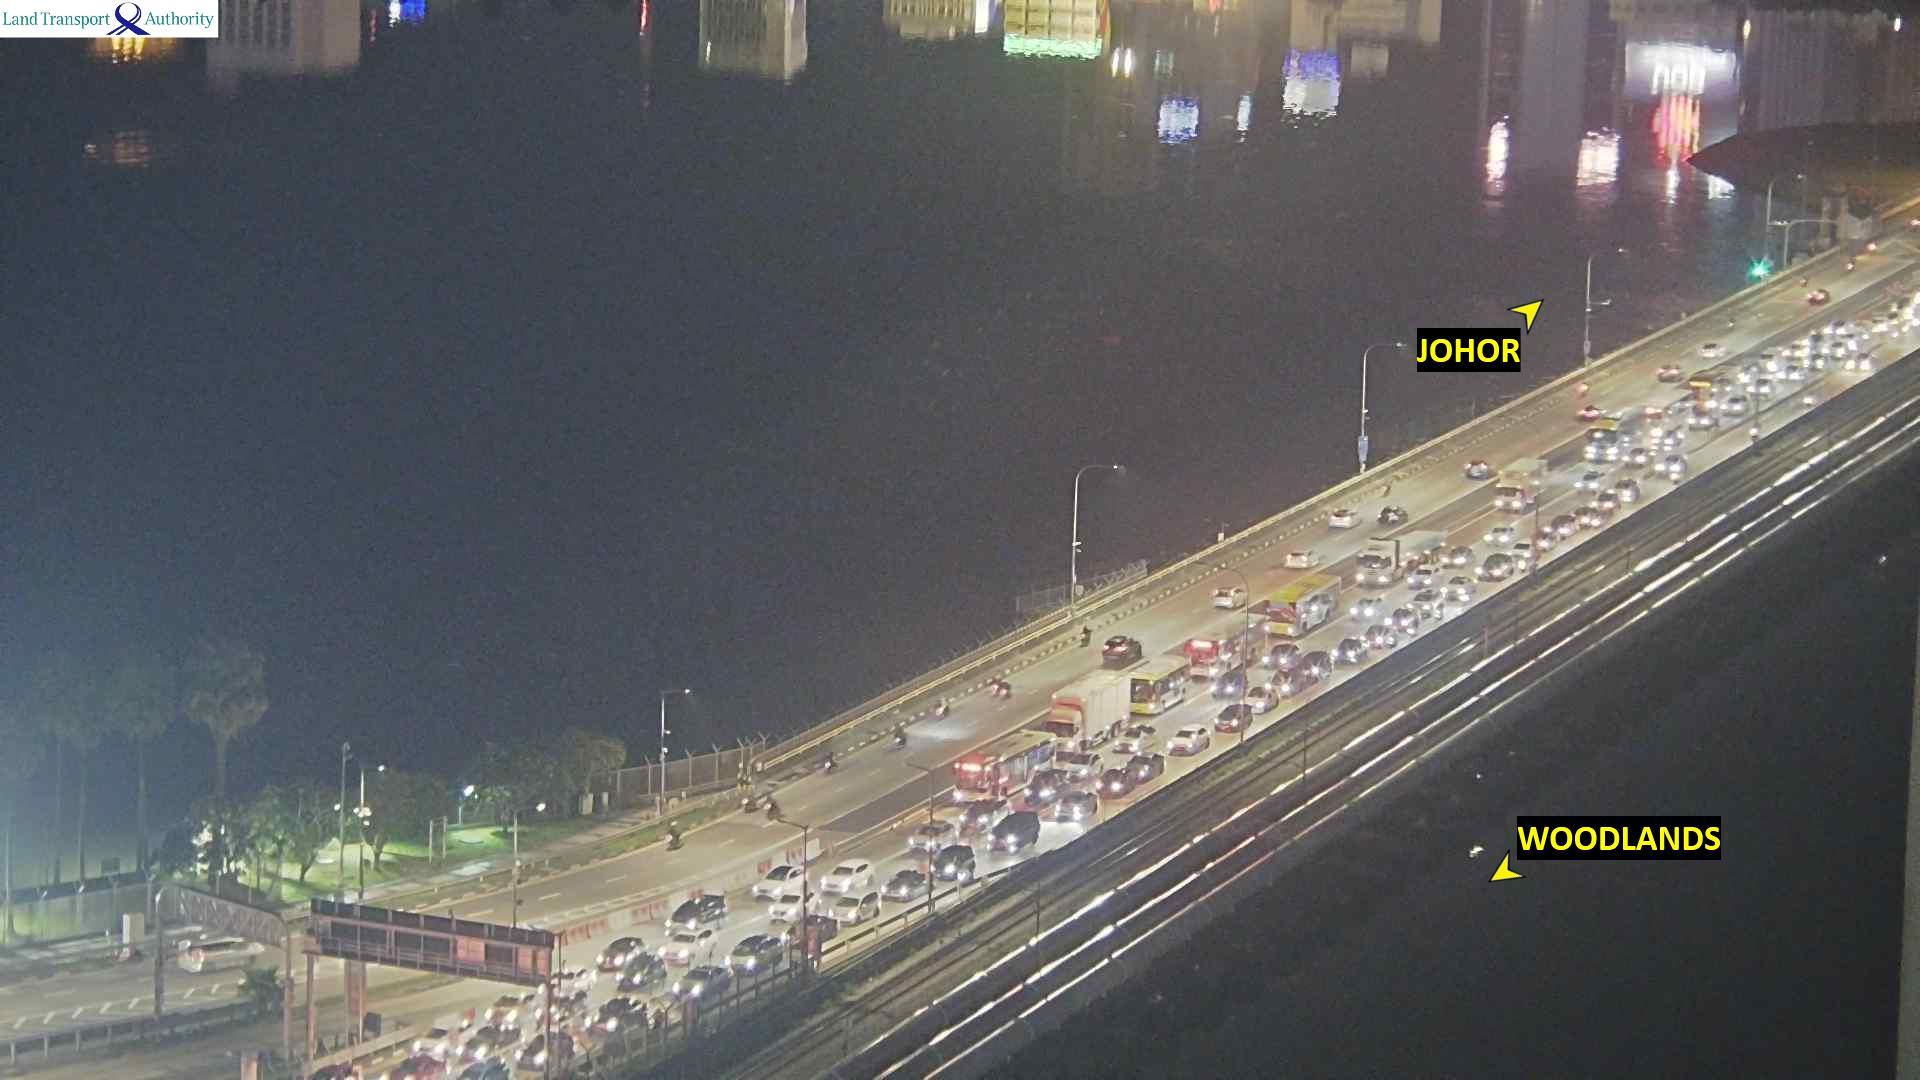vehicle-causeway-johor: (177, 938, 262, 975), (1103, 636, 1142, 665), (1211, 584, 1250, 610), (1283, 547, 1323, 568), (1328, 508, 1363, 529), (1377, 506, 1411, 526), (1756, 347, 1784, 370), (1463, 460, 1490, 482), (664, 821, 683, 852), (1655, 366, 1682, 385), (1700, 342, 1728, 359), (931, 696, 950, 721), (1806, 288, 1832, 306), (763, 796, 782, 820), (824, 748, 841, 773), (741, 793, 759, 813), (1577, 405, 1604, 417), (893, 725, 907, 748), (1079, 624, 1092, 648), (1578, 381, 1592, 398), (988, 679, 1000, 696), (1797, 275, 1809, 291), (1000, 680, 1009, 700), (1864, 240, 1877, 253), (1846, 258, 1857, 272), (1727, 318, 1736, 330)
vehicle-causeway-singapore: (953, 730, 1056, 804), (1044, 673, 1130, 753), (1355, 530, 1446, 586), (1187, 613, 1266, 675), (1268, 574, 1341, 634), (1130, 655, 1190, 712), (1586, 406, 1646, 459), (1497, 458, 1546, 511), (584, 998, 646, 1038), (726, 935, 784, 976), (988, 811, 1040, 856), (672, 893, 726, 936), (675, 962, 731, 1001), (751, 865, 808, 903), (659, 931, 718, 964), (596, 936, 647, 973), (819, 861, 877, 893), (519, 1032, 570, 1066), (831, 894, 882, 926), (908, 820, 957, 853), (962, 798, 1011, 831), (1023, 770, 1069, 805), (623, 955, 663, 994), (485, 994, 534, 1025), (769, 892, 819, 922), (932, 846, 977, 879), (882, 869, 933, 898), (552, 964, 595, 997), (1112, 724, 1156, 752), (1169, 725, 1210, 755), (789, 917, 834, 944), (1056, 791, 1097, 820), (415, 1028, 452, 1057), (1065, 752, 1103, 780), (1216, 703, 1251, 733), (1243, 687, 1280, 714), (384, 1060, 433, 1080), (1097, 768, 1133, 795), (1127, 753, 1165, 778), (1211, 670, 1246, 697), (1332, 636, 1367, 663), (1480, 552, 1513, 580), (460, 1031, 494, 1058), (1350, 595, 1383, 622), (1264, 644, 1302, 667), (1270, 669, 1302, 696), (314, 1062, 361, 1080), (1656, 454, 1688, 480), (1441, 577, 1478, 599), (1303, 651, 1332, 679), (1718, 393, 1749, 418), (1405, 567, 1443, 587), (1571, 508, 1605, 530), (1483, 526, 1519, 546), (1408, 592, 1442, 612), (1611, 478, 1639, 502), (1689, 410, 1717, 434), (1388, 608, 1417, 631), (1443, 546, 1473, 567), (1545, 515, 1576, 535), (1747, 379, 1775, 401), (1593, 494, 1622, 515), (1366, 626, 1393, 648), (1576, 472, 1602, 492), (1844, 355, 1874, 372), (1514, 538, 1535, 562), (1776, 365, 1803, 382)
